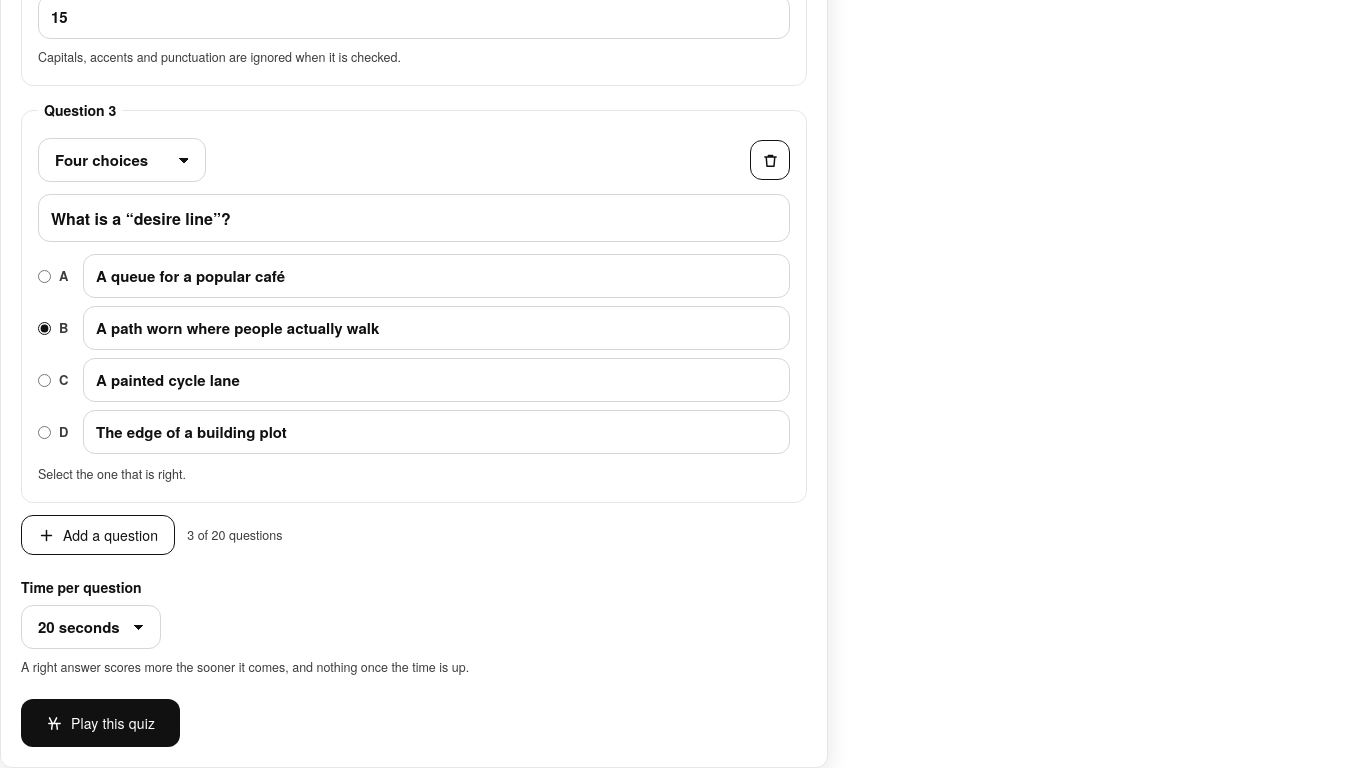
Test: Pop Quiz › will not play a quiz with something missing, and says what
(page scrolled)
Click the button "Add a question" at (98, 535), box x1=21 y1=515 x2=175 y2=555
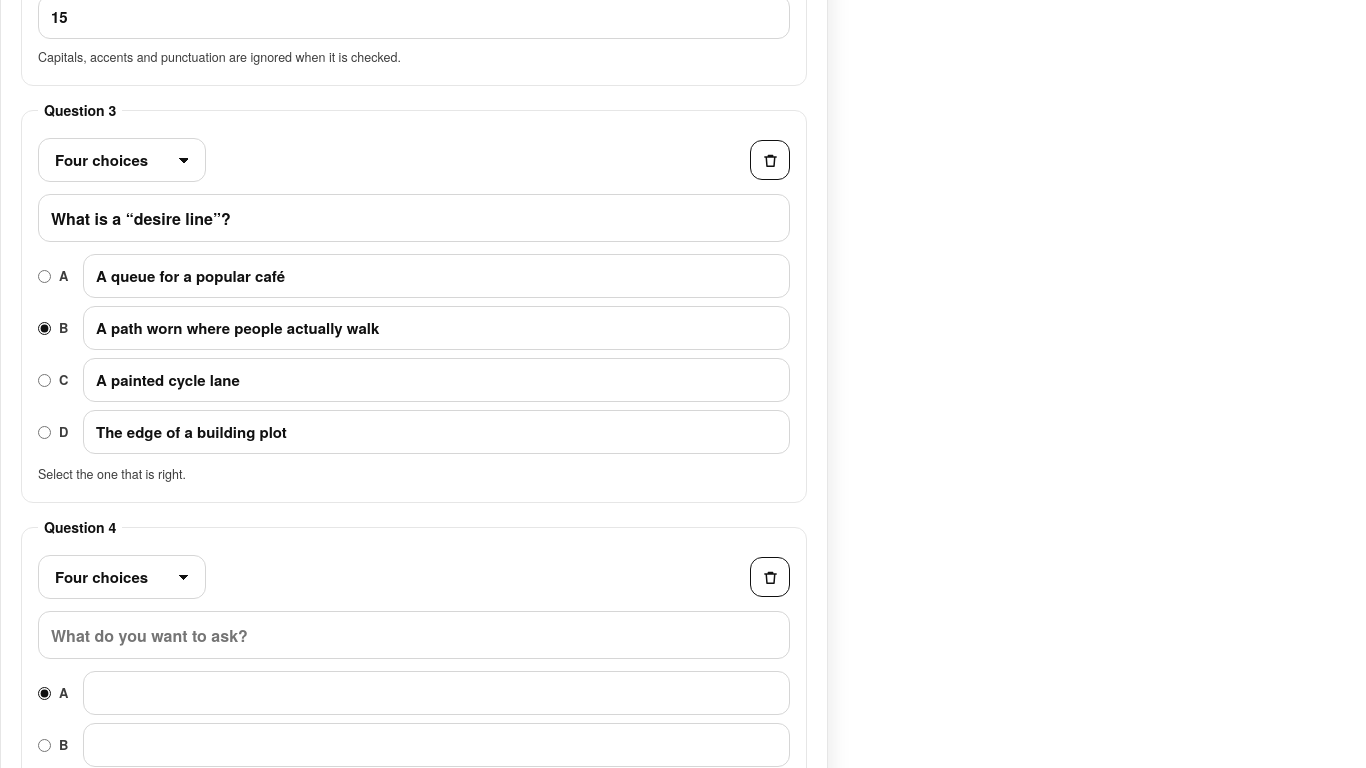
Select "Fill in the blank" in the dropdown named "Kind of question 4" at (122, 577), box x1=38 y1=555 x2=206 y2=599
(page scrolled)
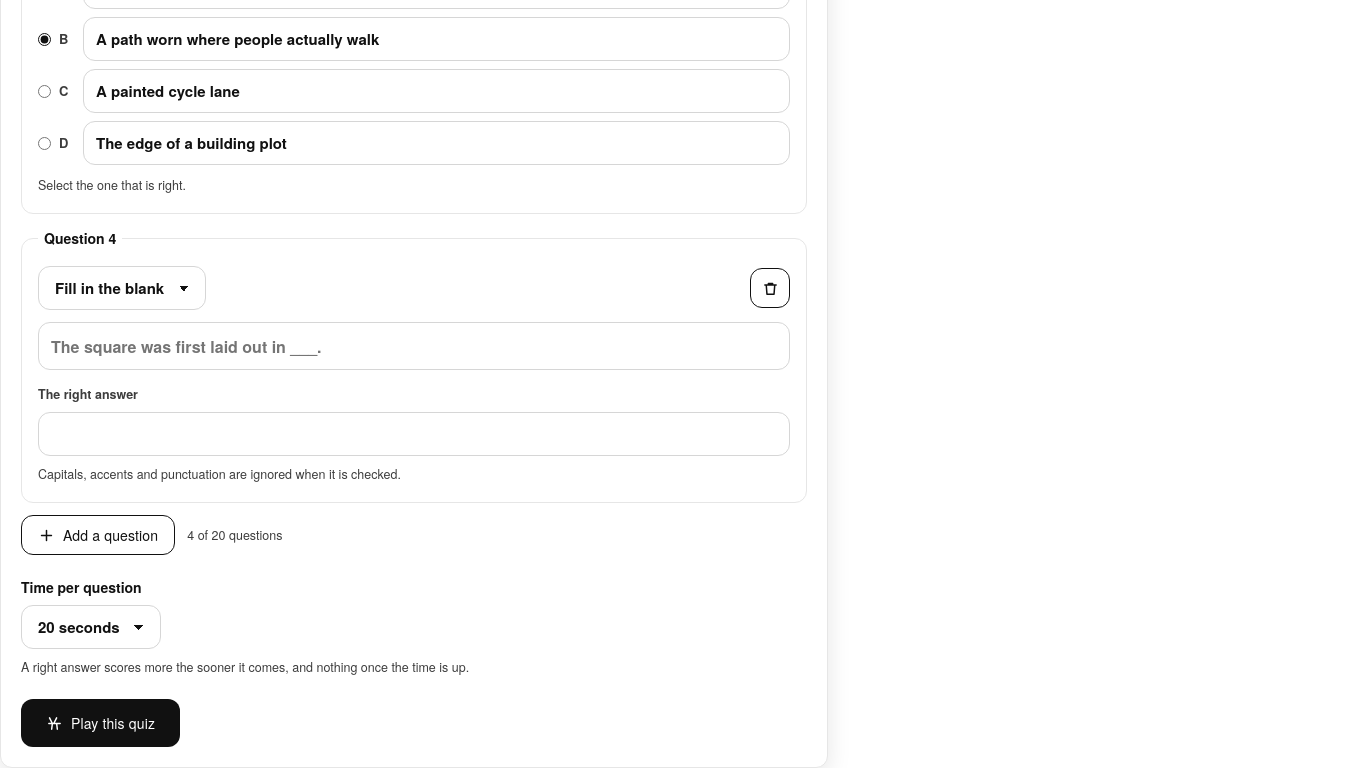
Click the button "Play this quiz" at (101, 723), box x1=21 y1=699 x2=180 y2=747
(page scrolled)
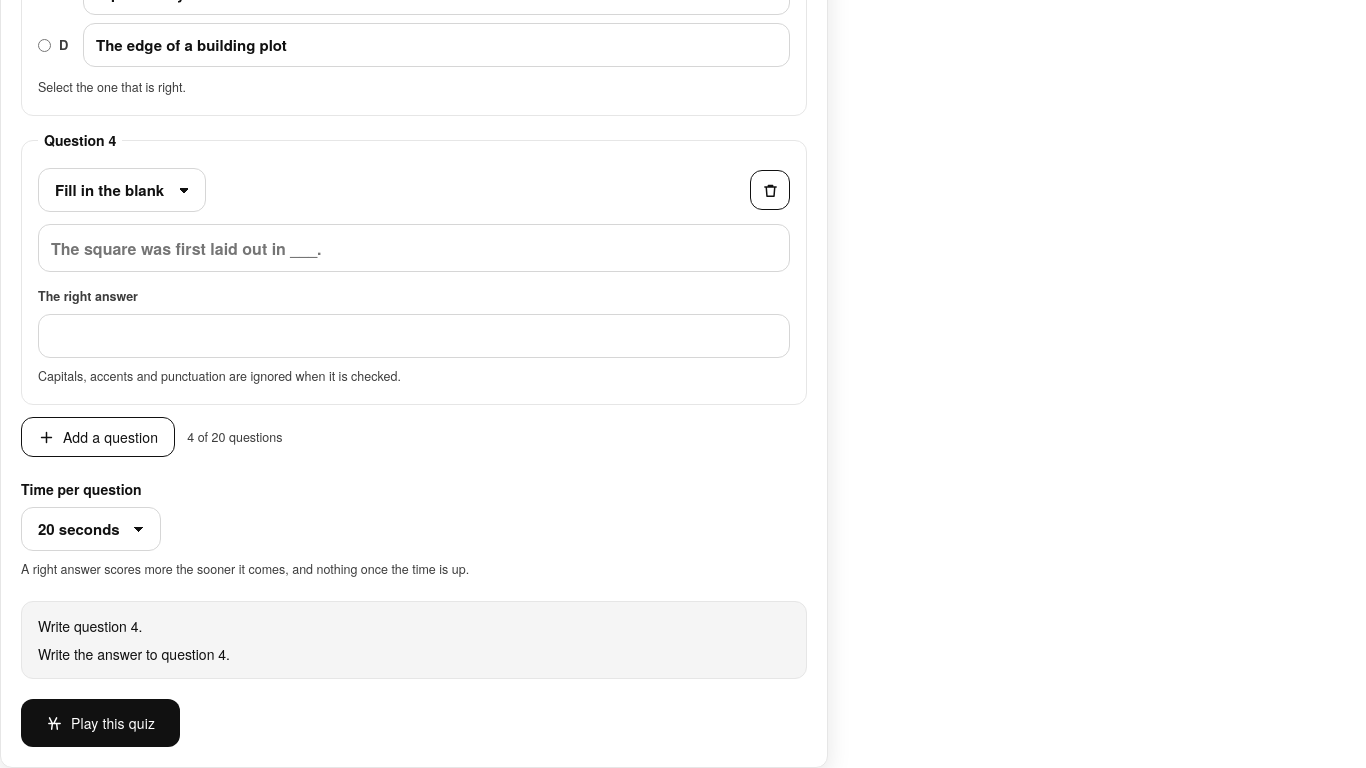
Check: the message shows "Write question 4.", box x1=38 y1=616 x2=142 y2=636
Check: the message shows "Write the answer to question 4.", box x1=38 y1=644 x2=230 y2=664
